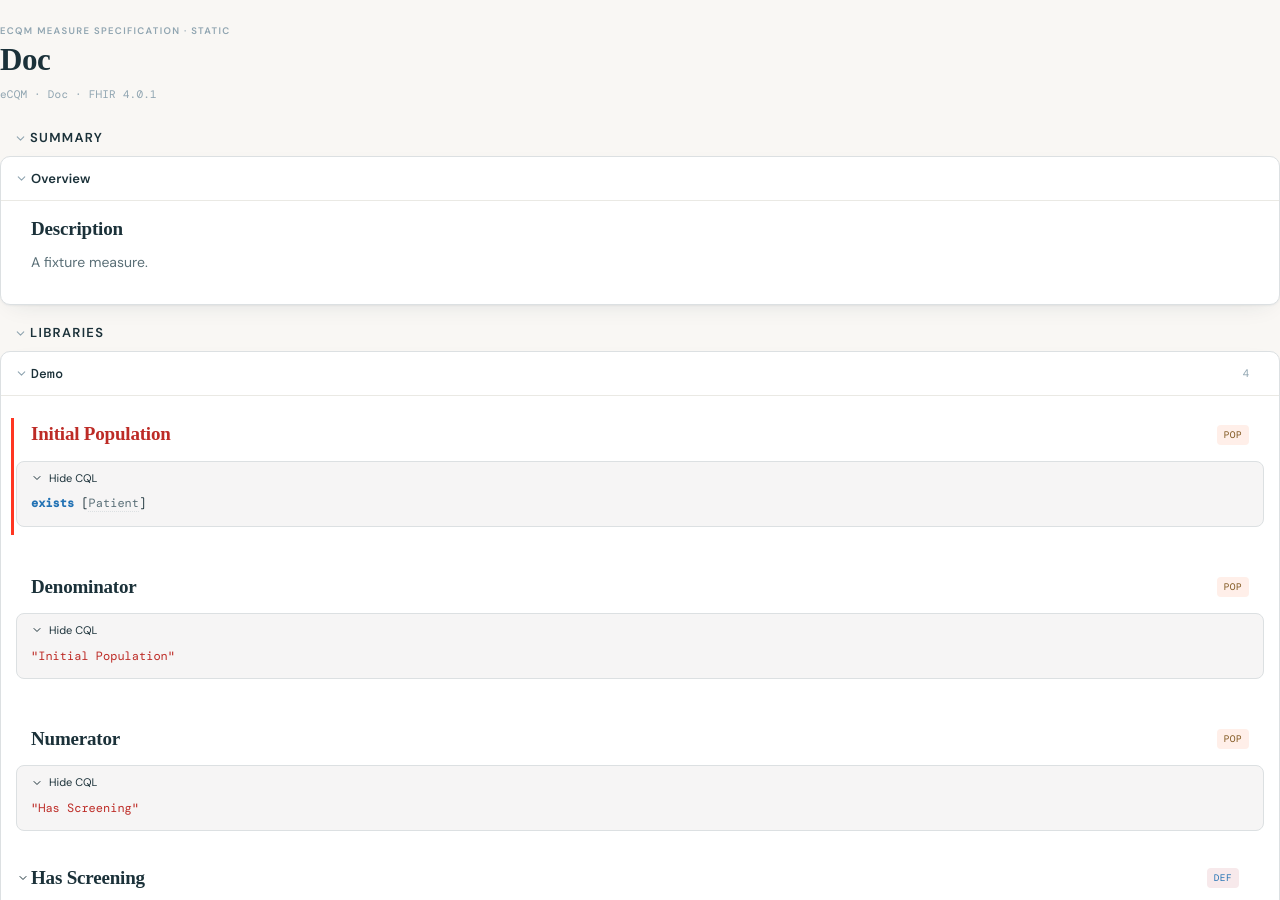
Test: the lens's tab and the pane's tab are independent (SPEC-REF-LENS) › pressing a tab inside the lens does not CLEAR the pin (the reported defect)
Click the list item "pop Denominator Hide CQL \"Initial Population\"" at (640, 629), box top-left (17, 563), bottom-right (1263, 695)
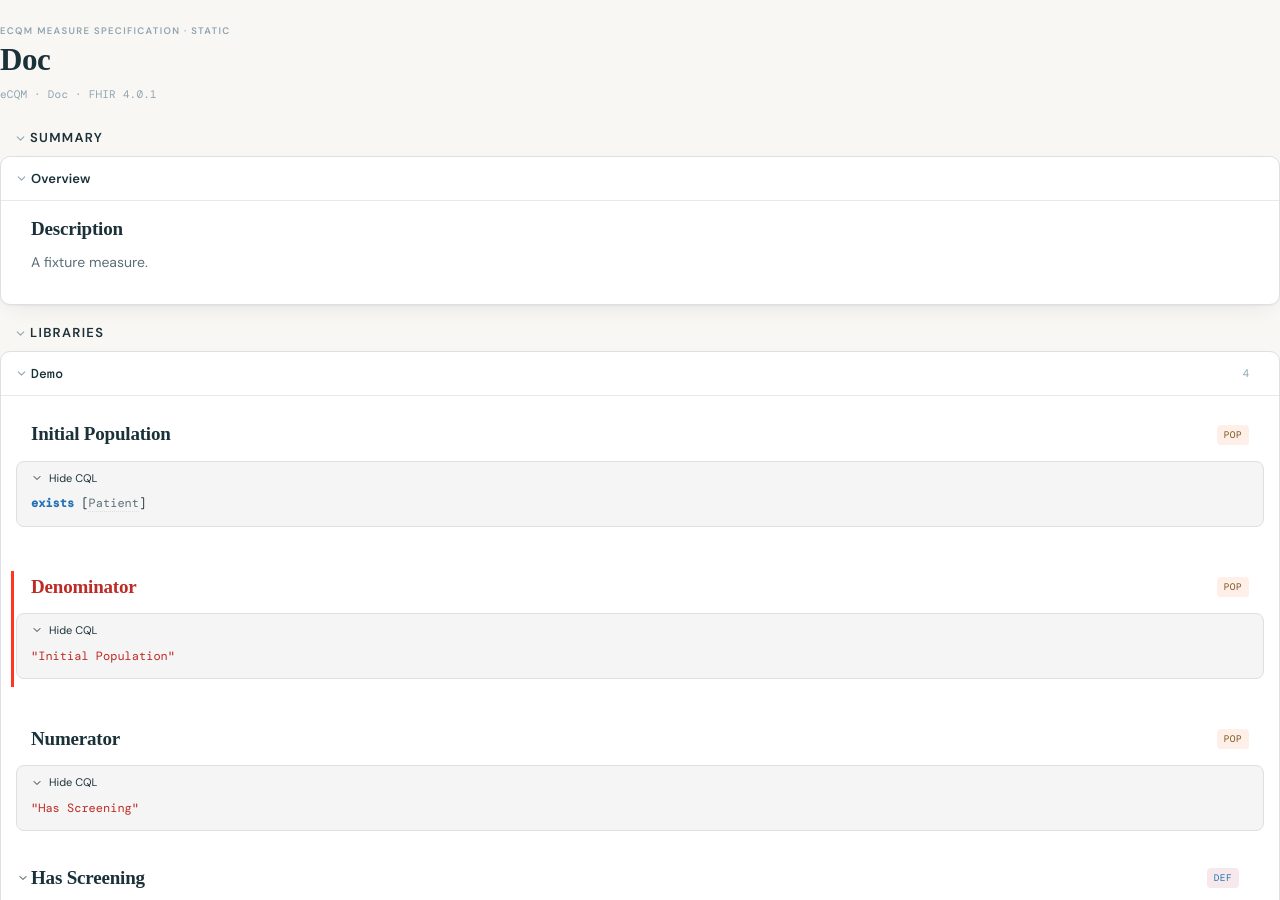
Click the button "\"Initial Population\"" at (103, 656), box top-left (31, 647), bottom-right (175, 666)
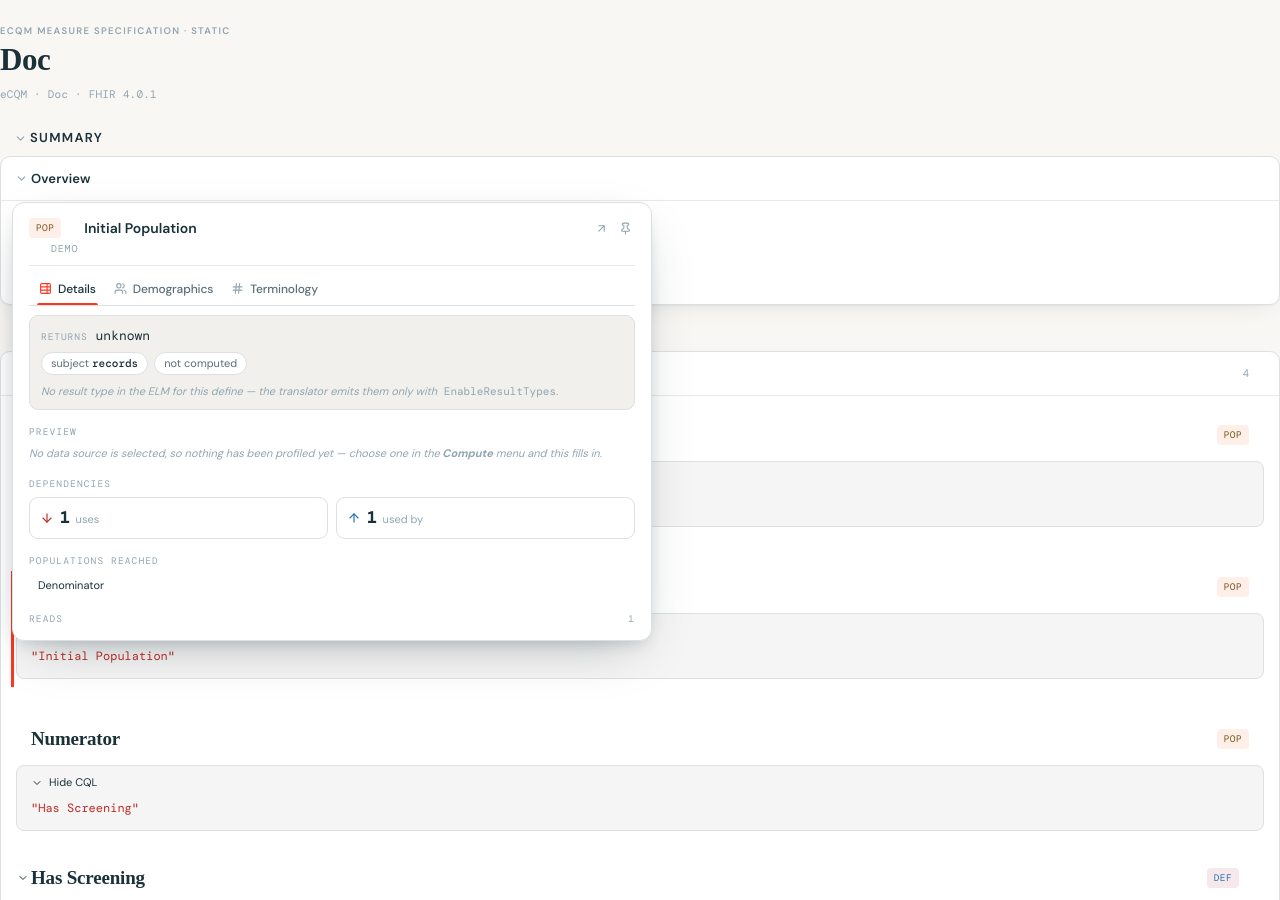
Now the element with class "mw-wb-tabs" is shown, box top-left (29, 275), bottom-right (635, 306)
Click the tab "Demographics" at (164, 290), box top-left (106, 275), bottom-right (221, 305)
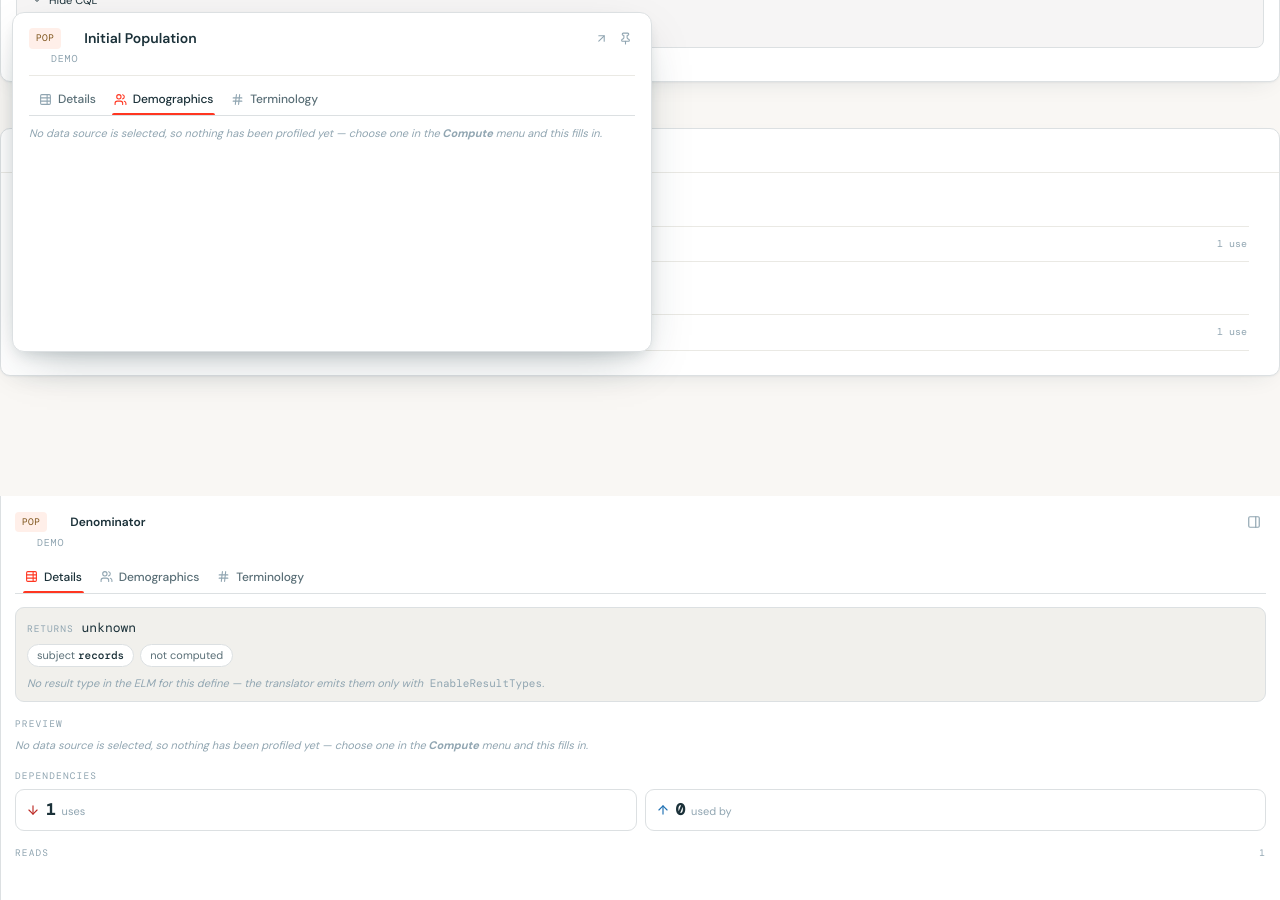
Now the tab "Demographics" below "Patient" is shown, box top-left (92, 563), bottom-right (207, 593)
Now the element with class "mw-wb-scope" shows "Denominator", box top-left (64, 512), bottom-right (152, 532)
